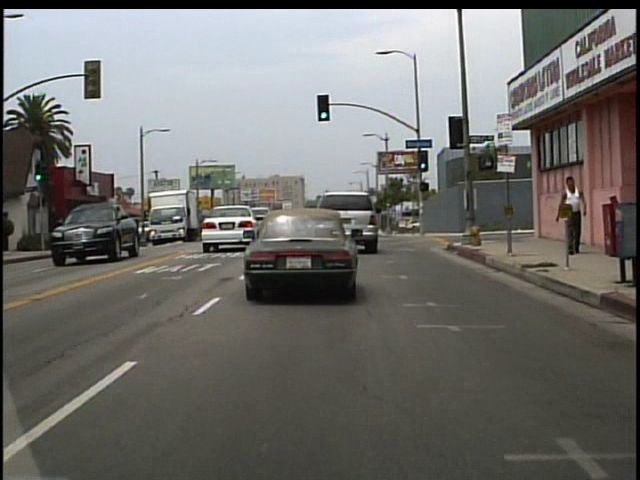person: (557, 171, 588, 257)
